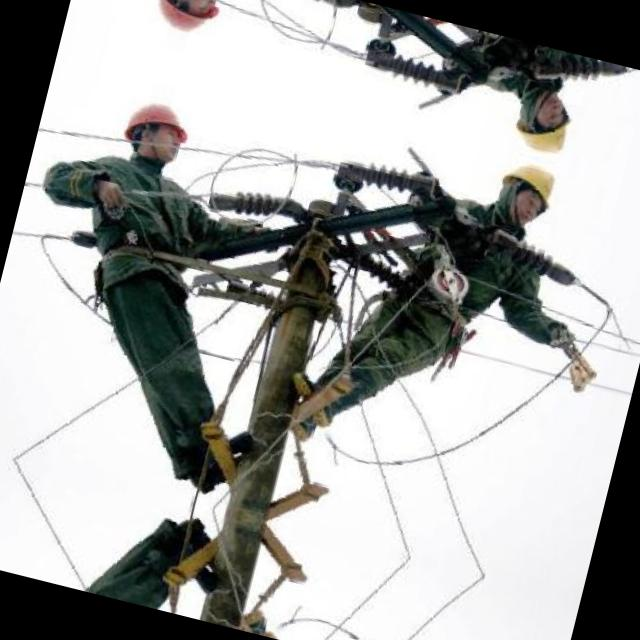helmet: (112, 86, 199, 170), (488, 152, 564, 232), (506, 80, 582, 160), (143, 0, 230, 45)
